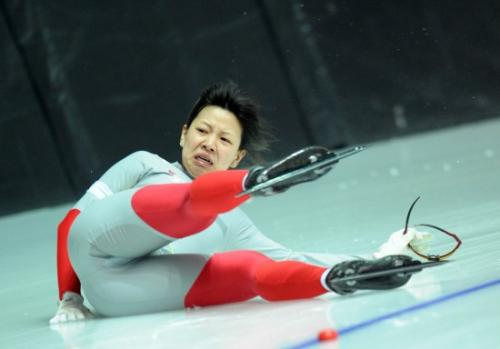fall: (31, 59, 430, 325)
